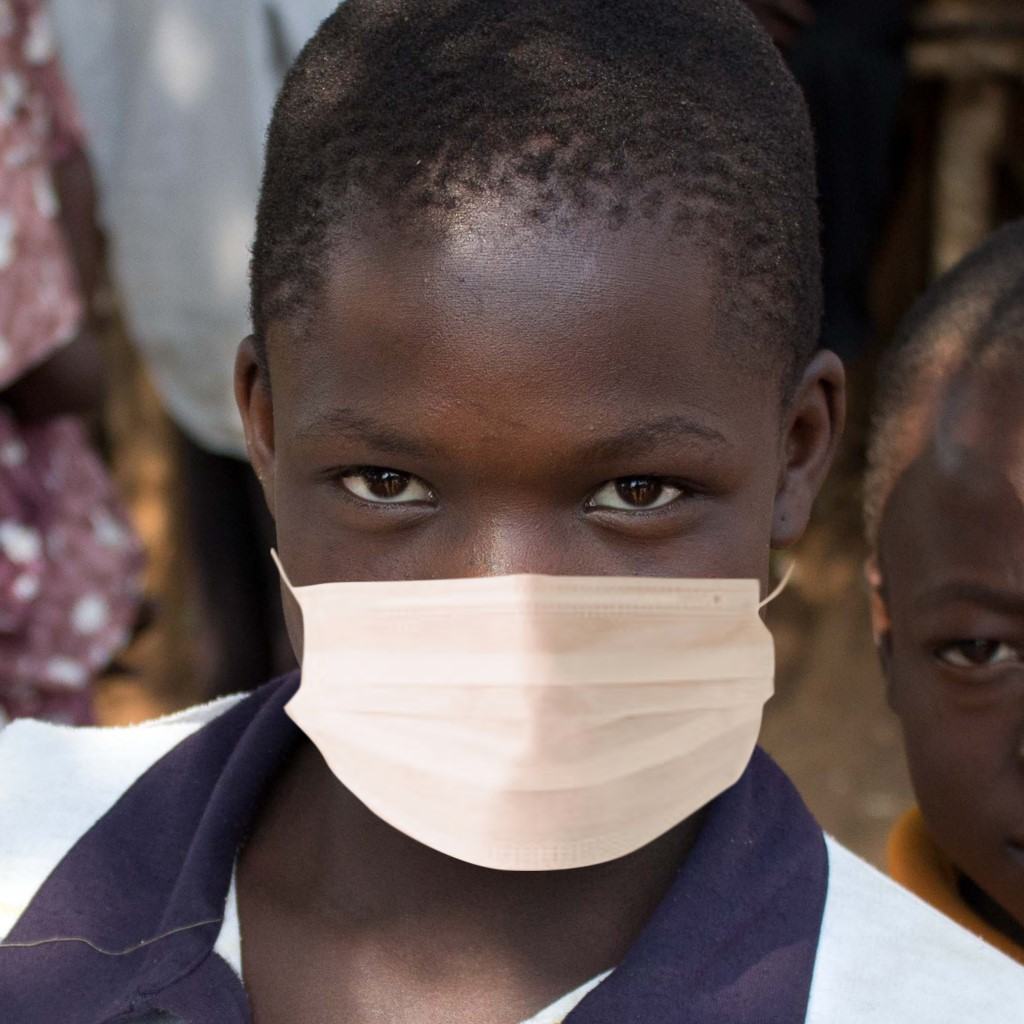con_mascara: (232, 113, 790, 876)
